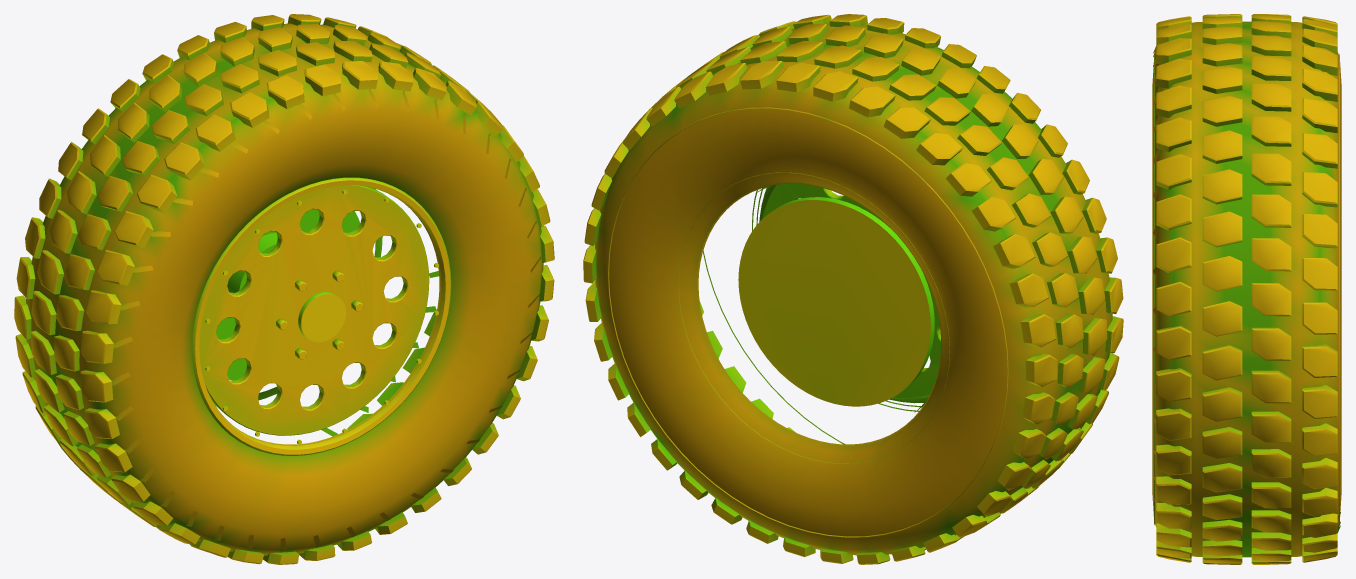
Rendered from wheel_RL_at285.glb.
3 renders of one model, left to right at view 1: azimuth 30°, elevation 25°; view 2: azimuth 150°, elevation 25°; view 3: azimuth 270°, elevation 25°, orthographic. The views are drawn at different scales.
Parts seen in each view (by area): view 1: tyre, rim, brake, chrome; view 2: tyre, brake, rim; view 3: tyre.
Boxes of the visible parts, bbox=[...] form: tyre: bbox=[14, 14, 554, 564]; rim: bbox=[192, 177, 451, 455]; brake: bbox=[216, 209, 360, 380]; chrome: bbox=[205, 189, 438, 444]; tyre: bbox=[583, 14, 1123, 564]; brake: bbox=[738, 197, 934, 406]; rim: bbox=[697, 182, 941, 446]; tyre: bbox=[1152, 14, 1341, 564].
Bounding box in the file's own units: 0.8305 × 0.8303 × 0.285.
